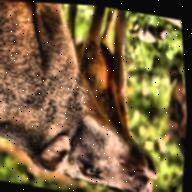boar: (0, 0, 182, 192)
